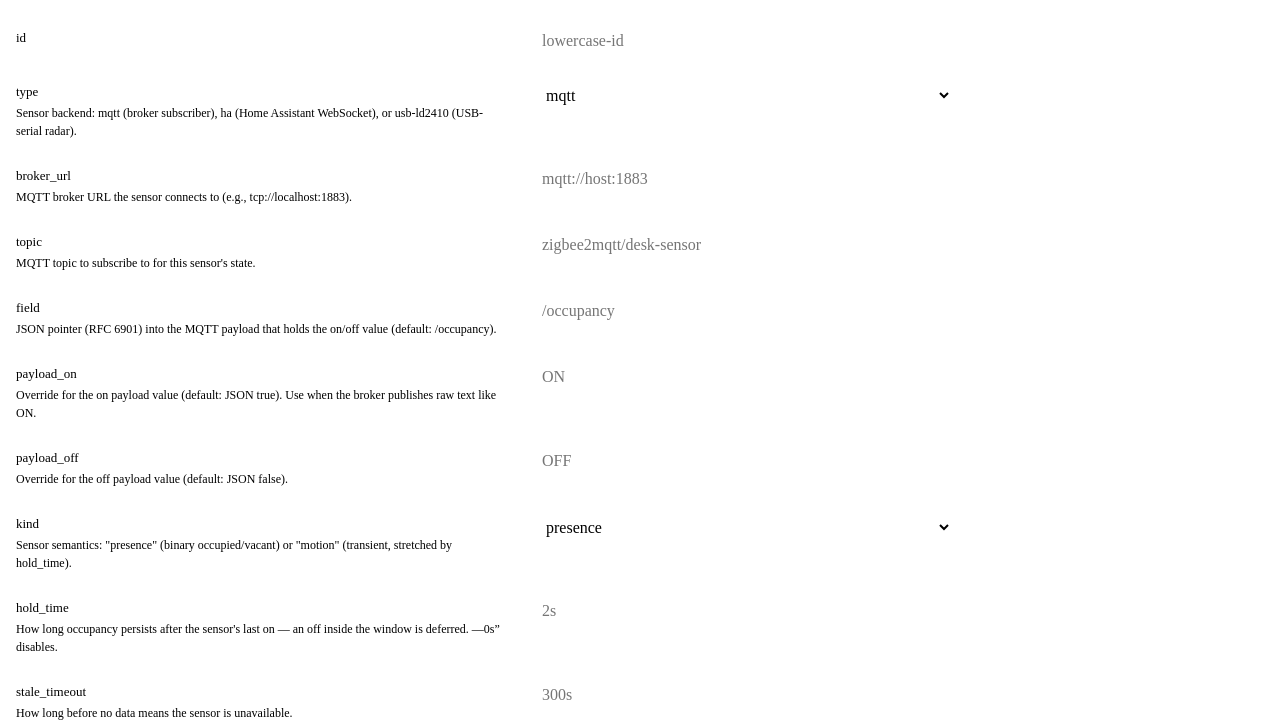
Test: CreateEntityForm — guided help / placeholders for every creatable field (2.i) › sensor with usb-ld2410 type renders the usb-only help texts
Select "usb-ld2410" in the dropdown labelled "type" at (742,96), box [532,80,952,111]
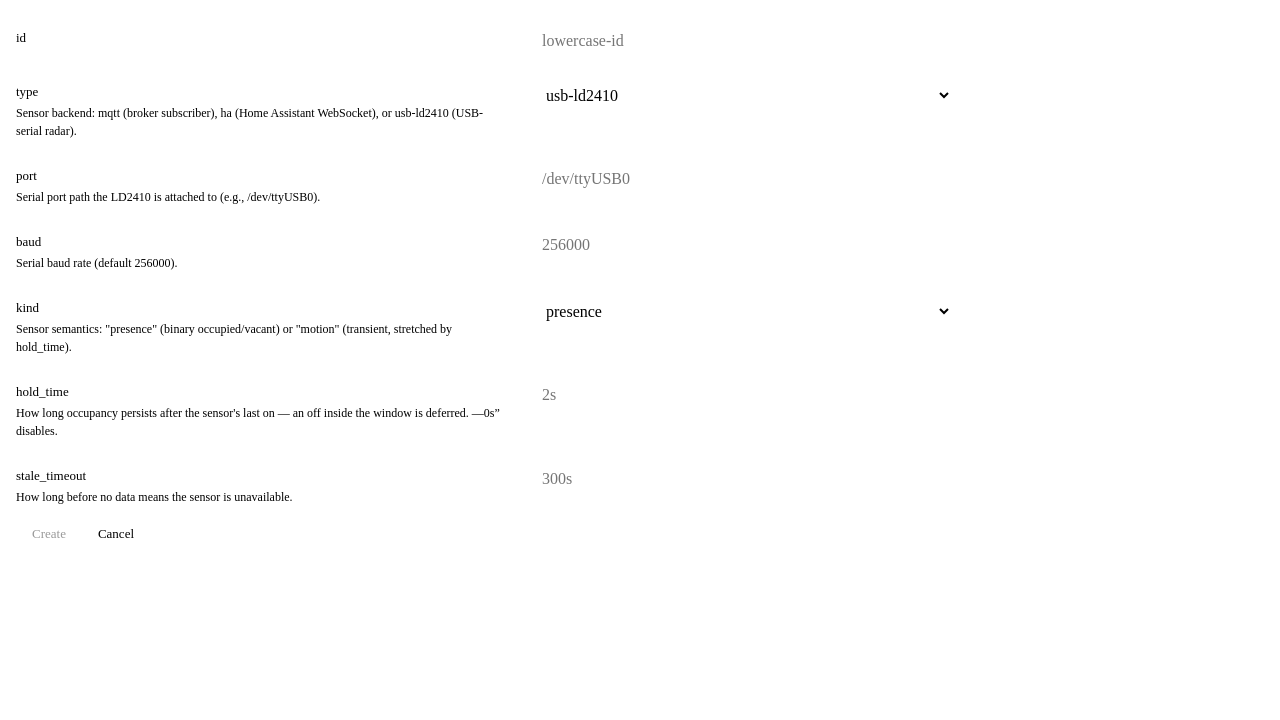
Expected: the text "Serial port path the LD2410 is attached to (e.g., /dev/ttyUSB0)." is shown, [16,190,320,204]
Expected: the text "Serial baud rate (default 256000)." is shown, [16,256,178,270]
